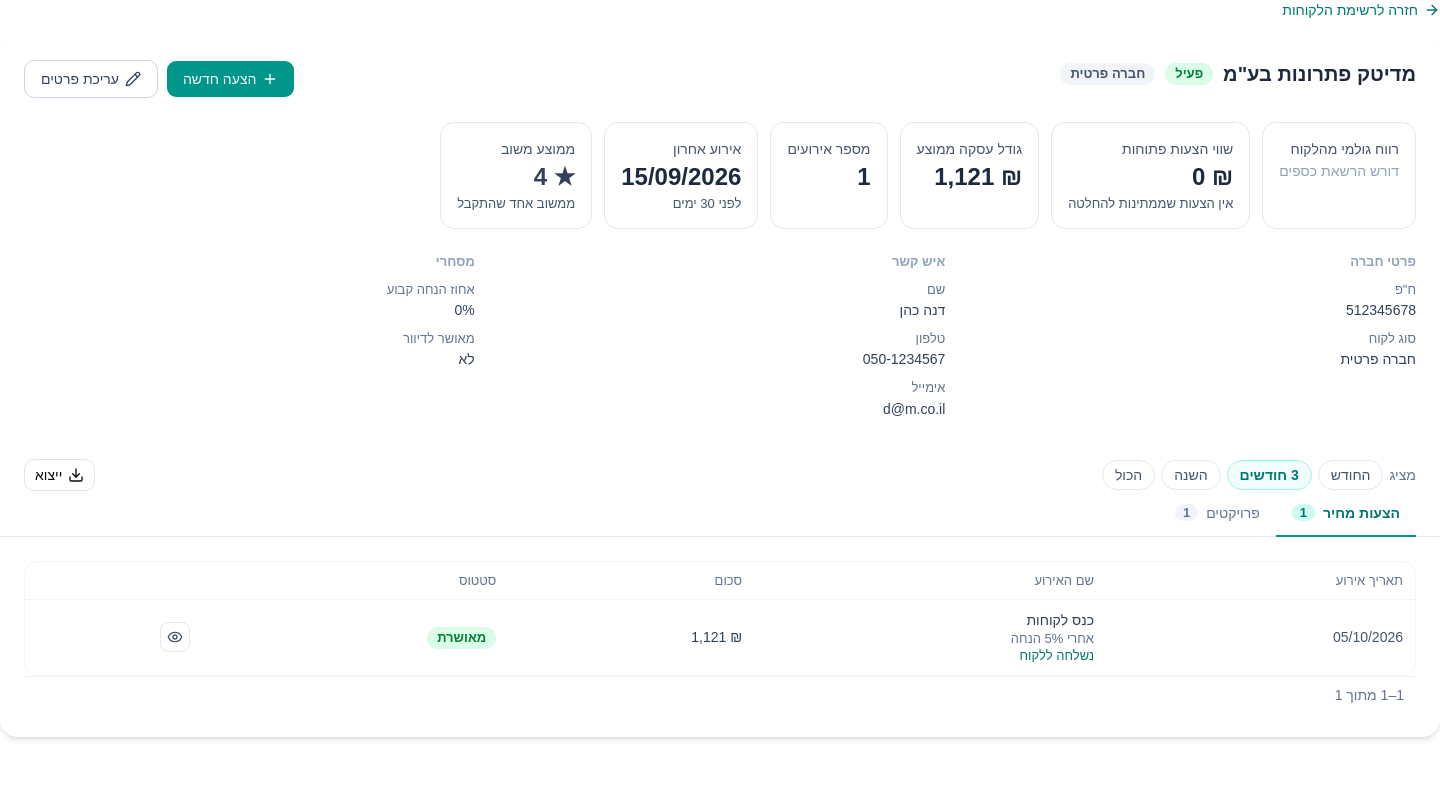
Test case: CustomerDetailsPage — חיבור לחלון-הייצוא › לשונית הפרויקטים: שביעות-רצון ופרטי-ביטול בקובץ, "הנחה %" לא — והתווית מ-scoreTagText
Click the button with test id "customer-tab-projects": (1217, 514) [1159,491,1276,537]
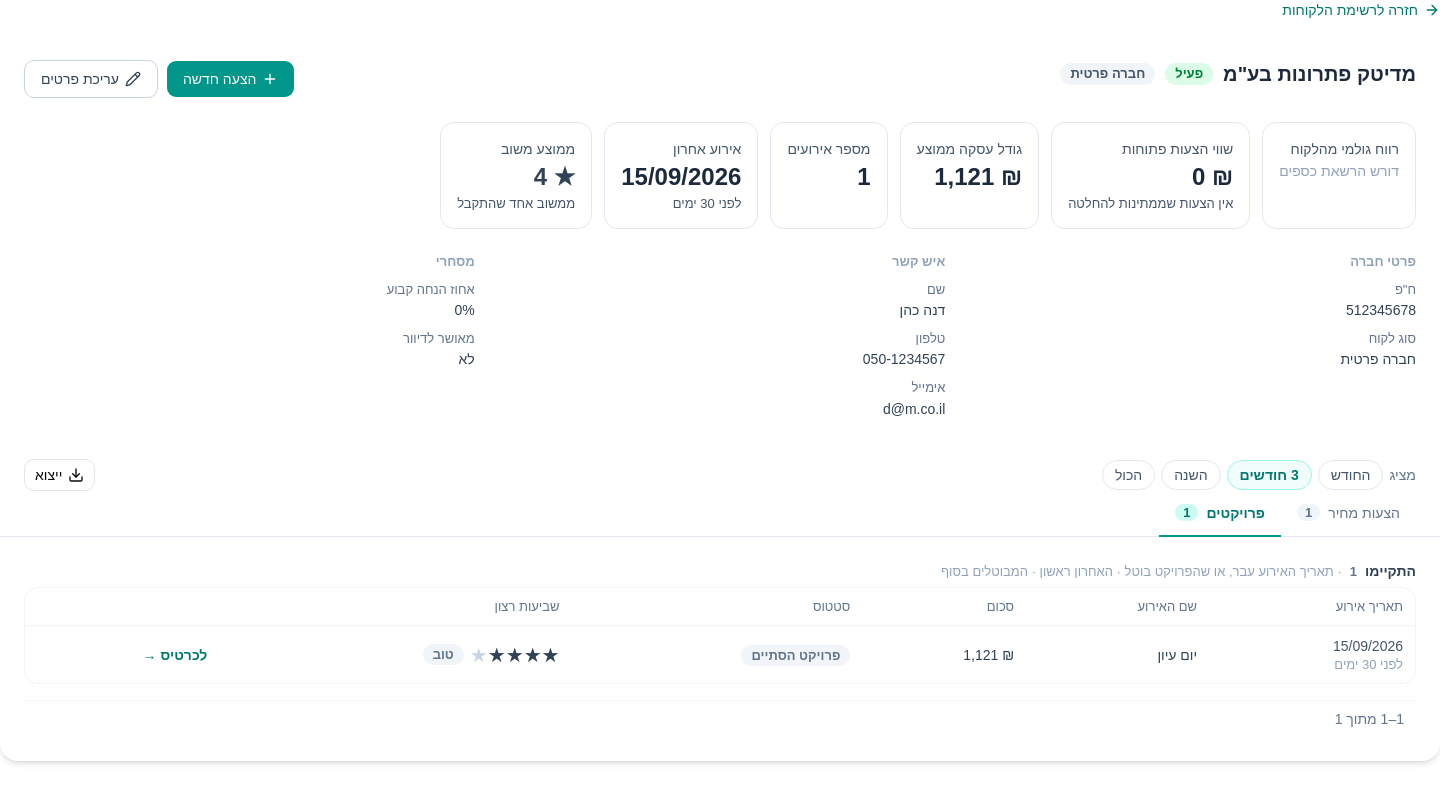
Click the button with test id "customer-export-button": (60, 475) [24,459,95,491]
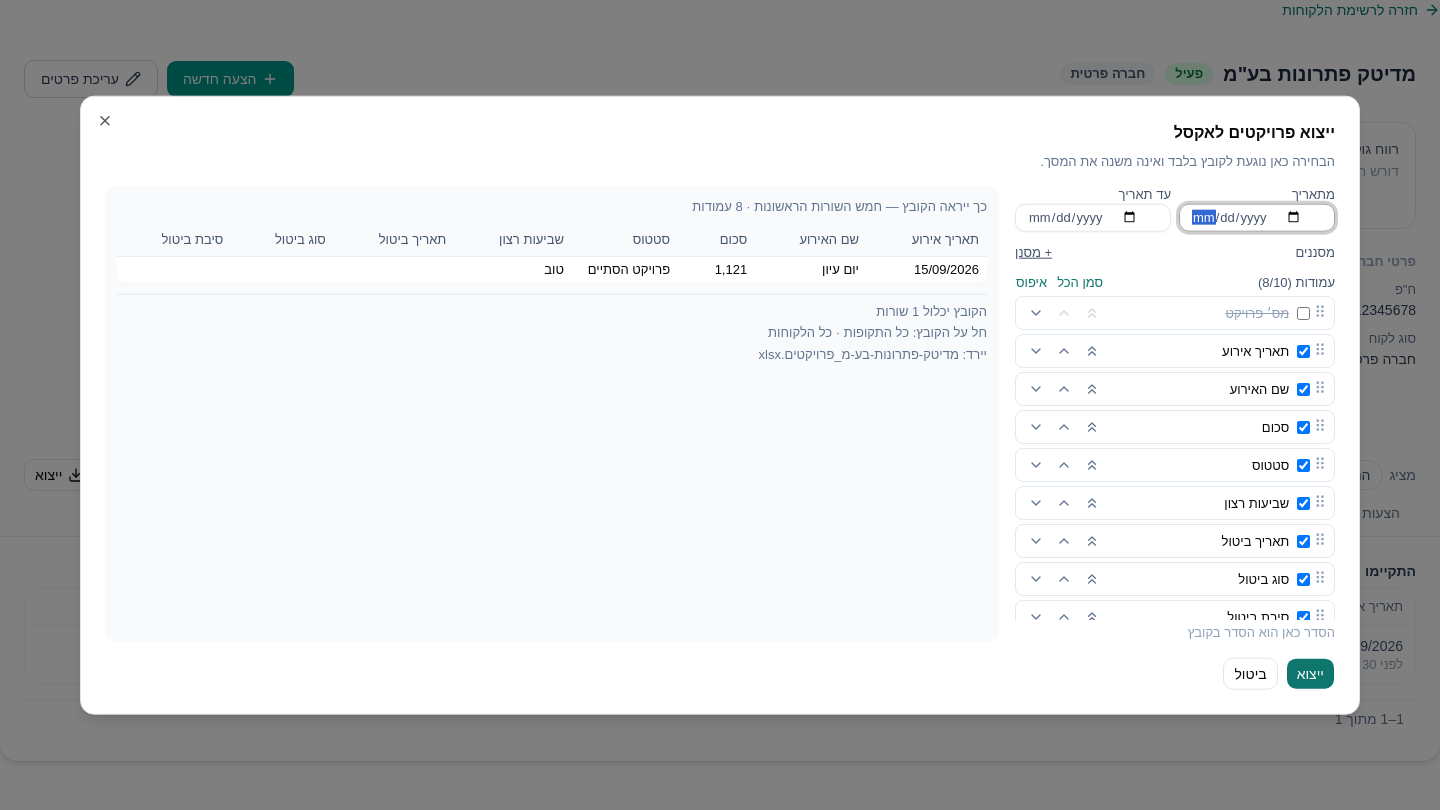
Expected: the text "טוב" is shown, [544,261,564,276]
